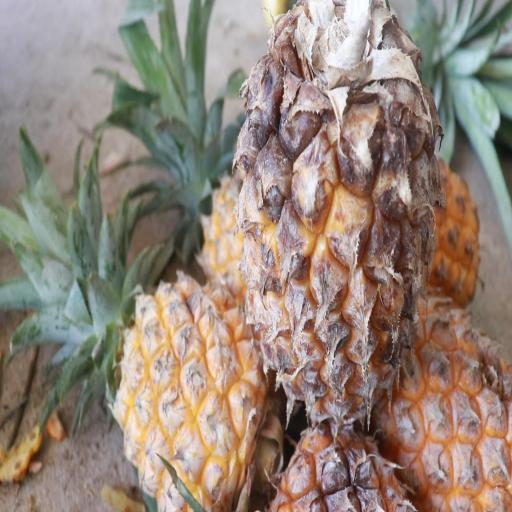Pineapple - v8 v1: (231, 0, 434, 422), (104, 214, 283, 512), (373, 270, 512, 507)
